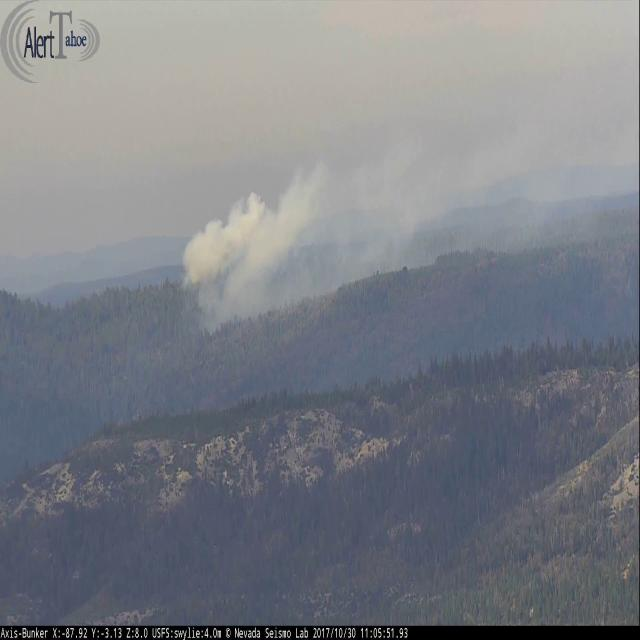smoke: (182, 80, 640, 328)
